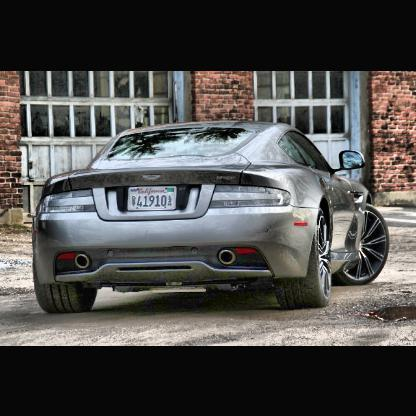Aston Martin Virage Coupe 2012: (31, 124, 399, 316)
